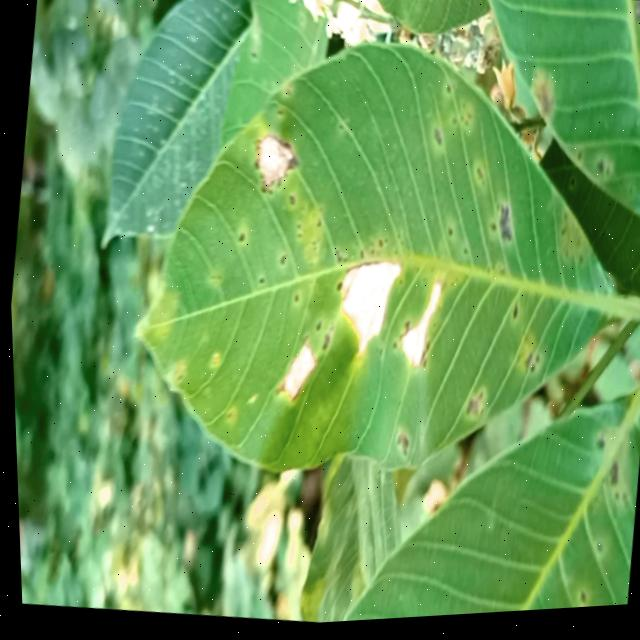Leaf-Blight: (331, 258, 401, 363), (393, 281, 444, 373), (277, 343, 317, 404), (252, 136, 294, 192)
